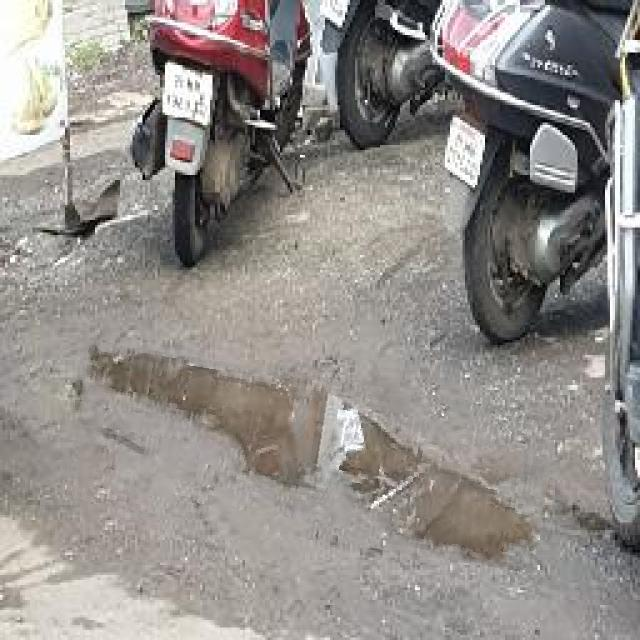puddle: (71, 359, 554, 556)
